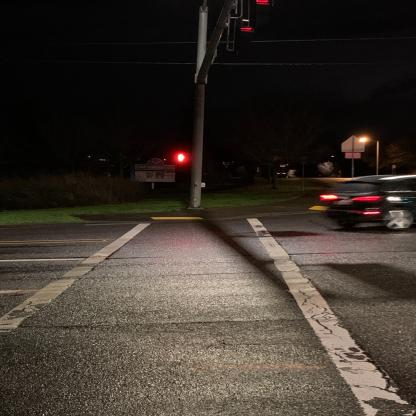Don-t Walk: (174, 152, 189, 162)
